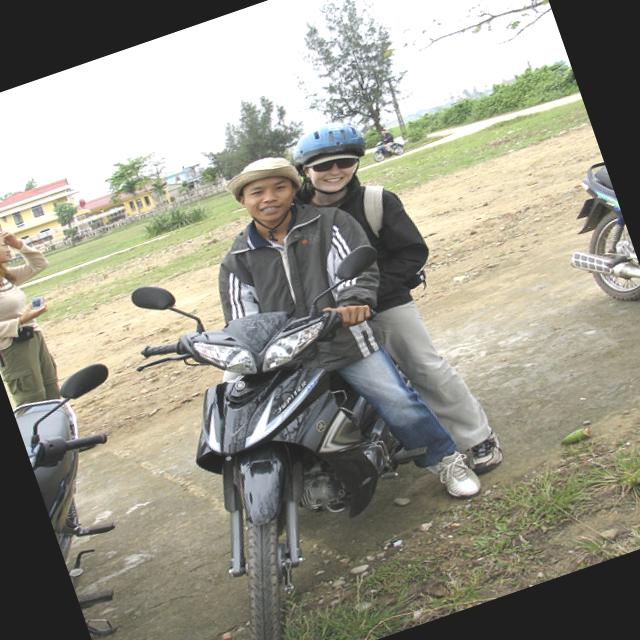Vehicle: (102, 217, 457, 640), (7, 359, 192, 638), (540, 159, 640, 322), (368, 134, 406, 163)
